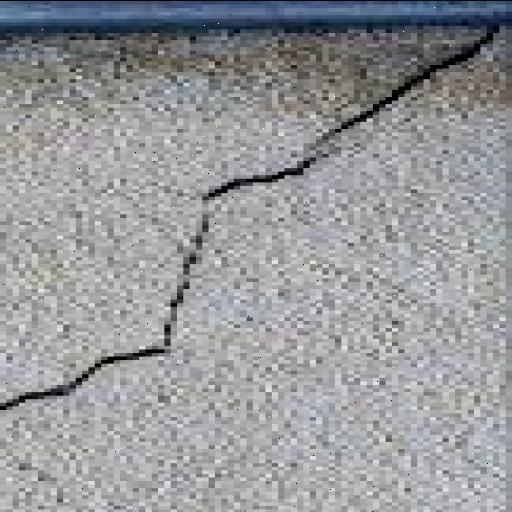spalling: (5, 29, 512, 418)
